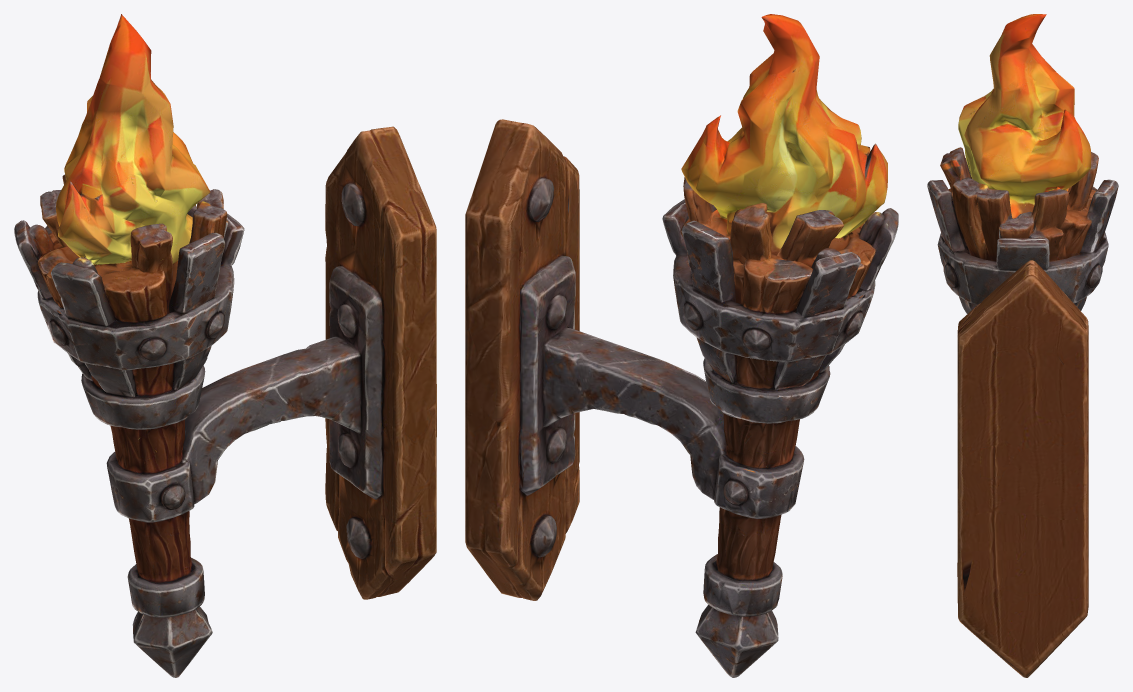
File: torch_sconce.glb
3 renders of one model, left to right at view 1: azimuth 30°, elevation 25°; view 2: azimuth 150°, elevation 25°; view 3: azimuth 270°, elevation 25°, orthographic. The views are drawn at different scales.
Size of the model in its own units: 1.1 by 1.9 by 0.5725.
Materials: 1 (1 with a texture image).
